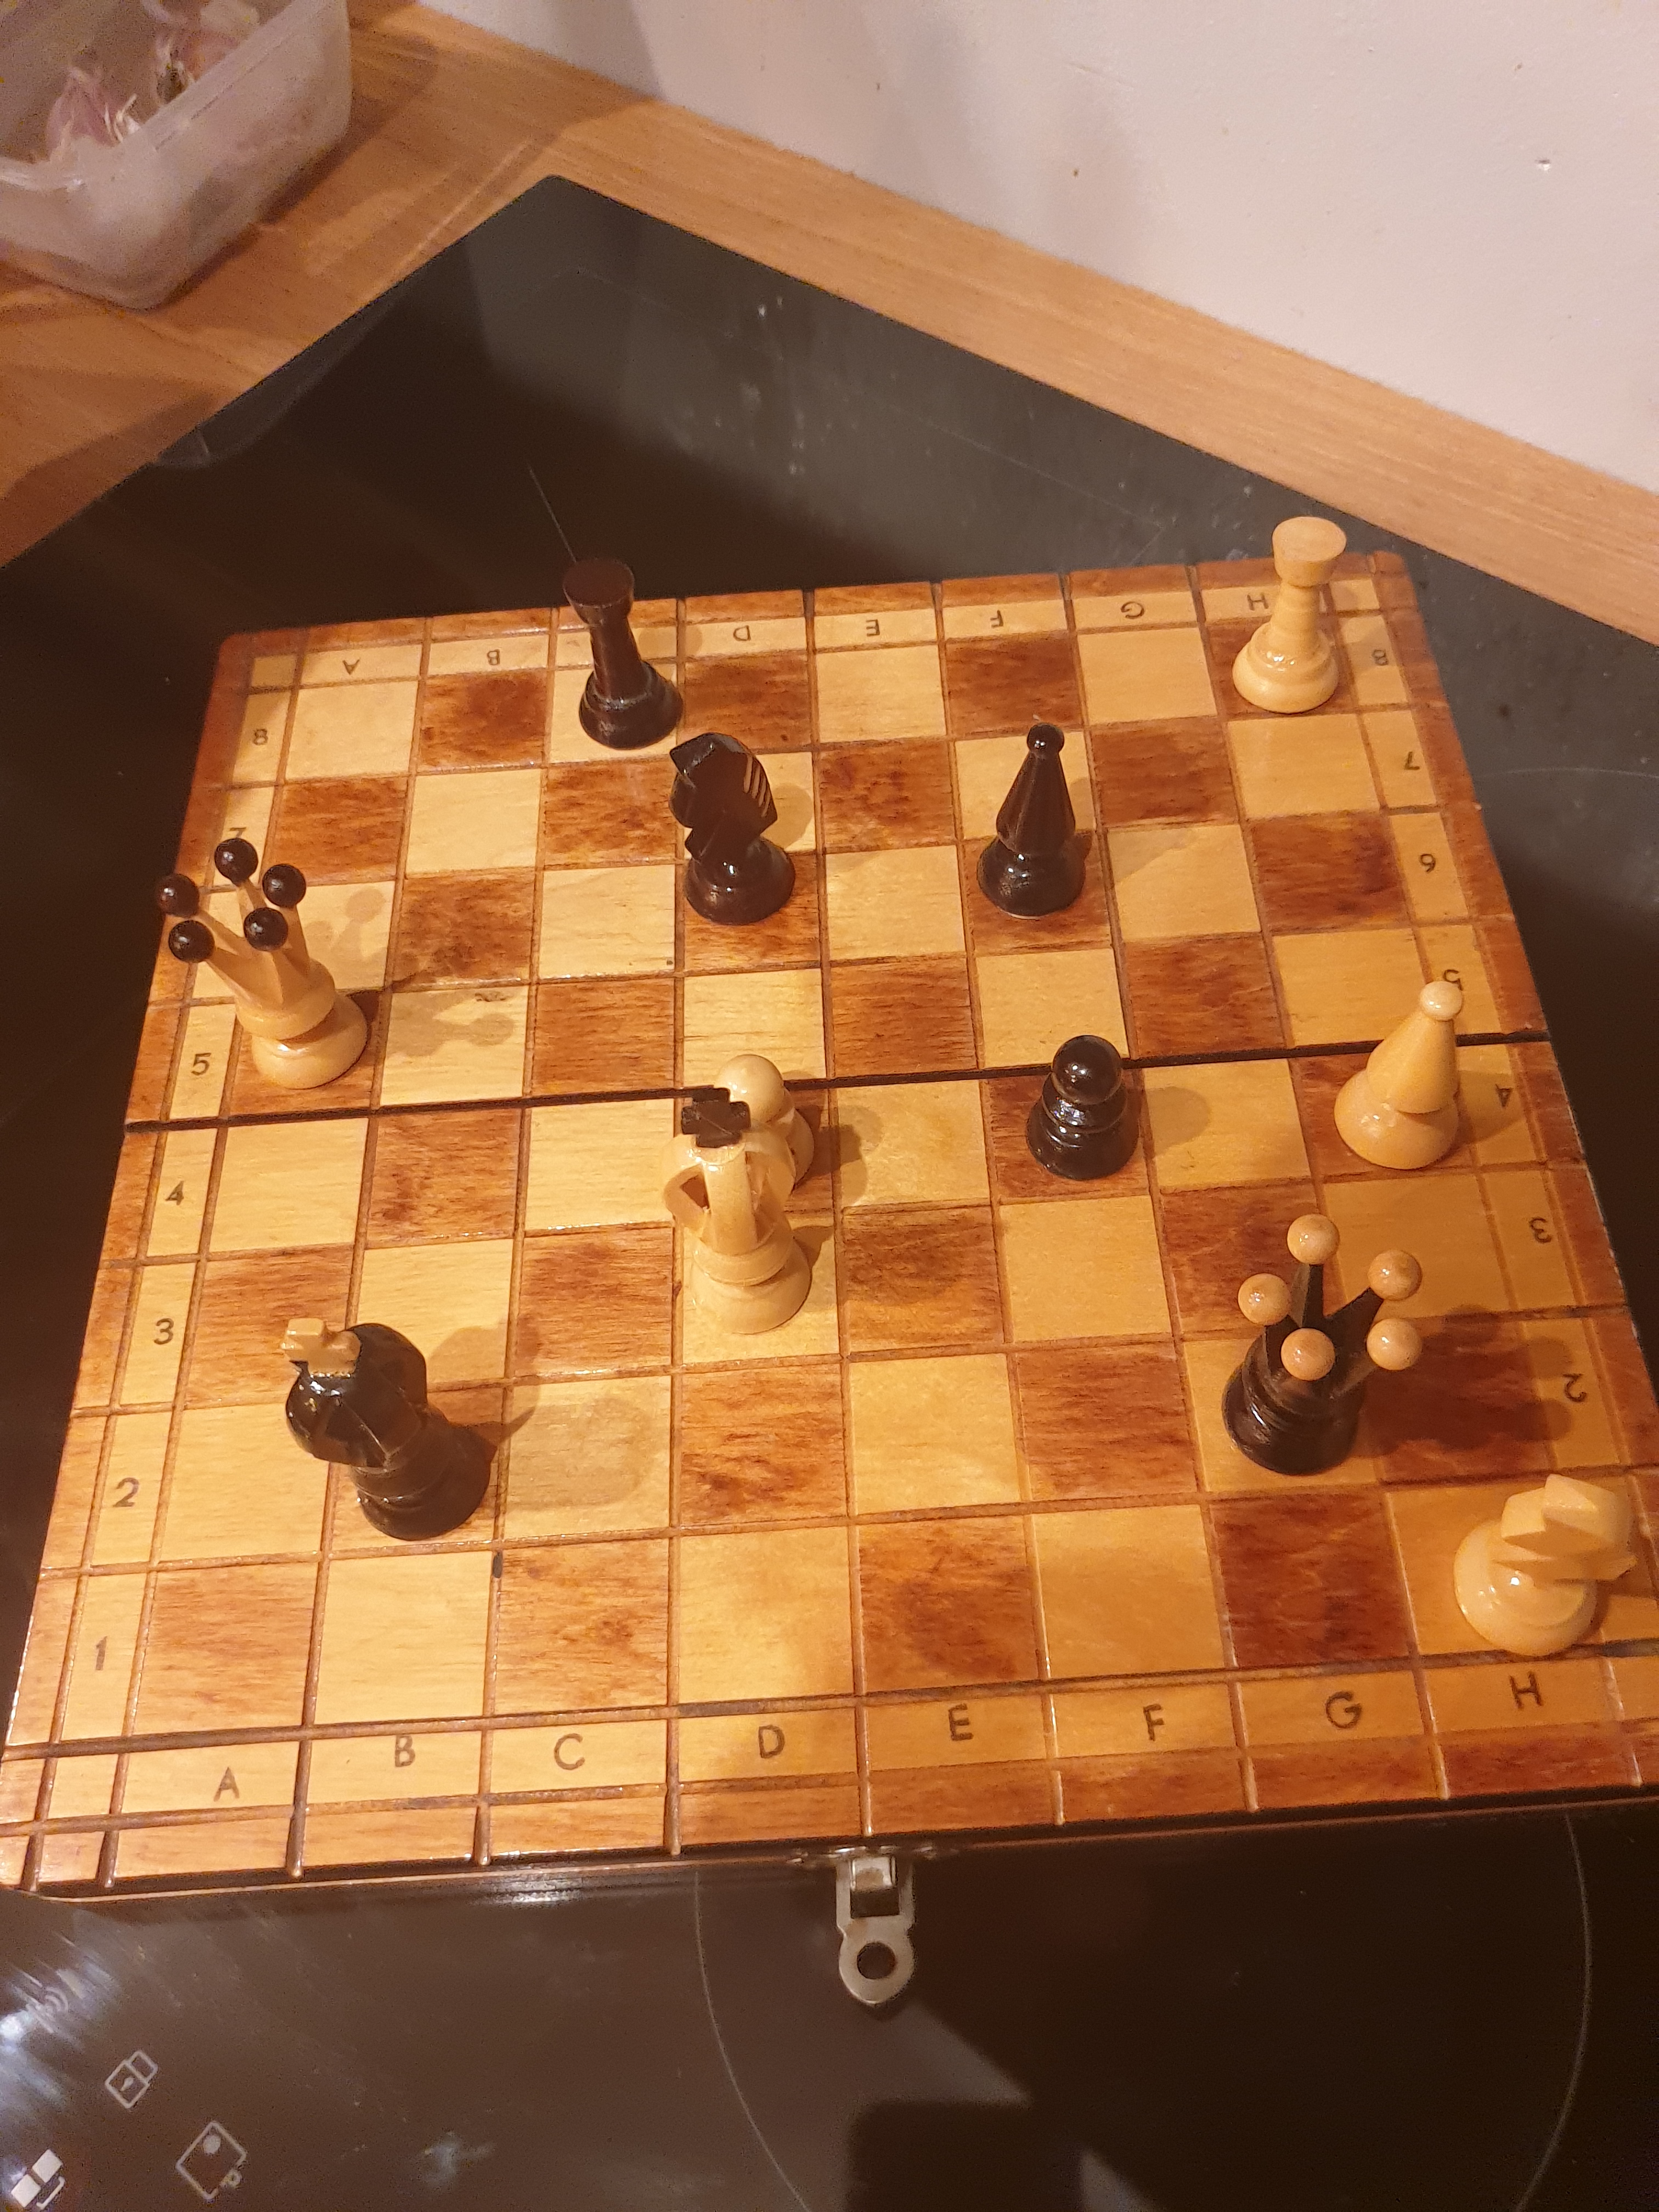bbishop: (969, 714, 1108, 932)
bking: (267, 1294, 509, 1552)
bknight: (662, 721, 803, 939)
bpawn: (1014, 1021, 1152, 1202)
bqueen: (1204, 1200, 1439, 1500)
brook: (554, 549, 688, 756)
wbishop: (1321, 961, 1480, 1181)
wking: (648, 1071, 824, 1338)
wknight: (1446, 1463, 1647, 1669)
wpawn: (694, 1049, 835, 1209)
wqueen: (139, 819, 385, 1096)
wrook: (1218, 503, 1356, 725)
